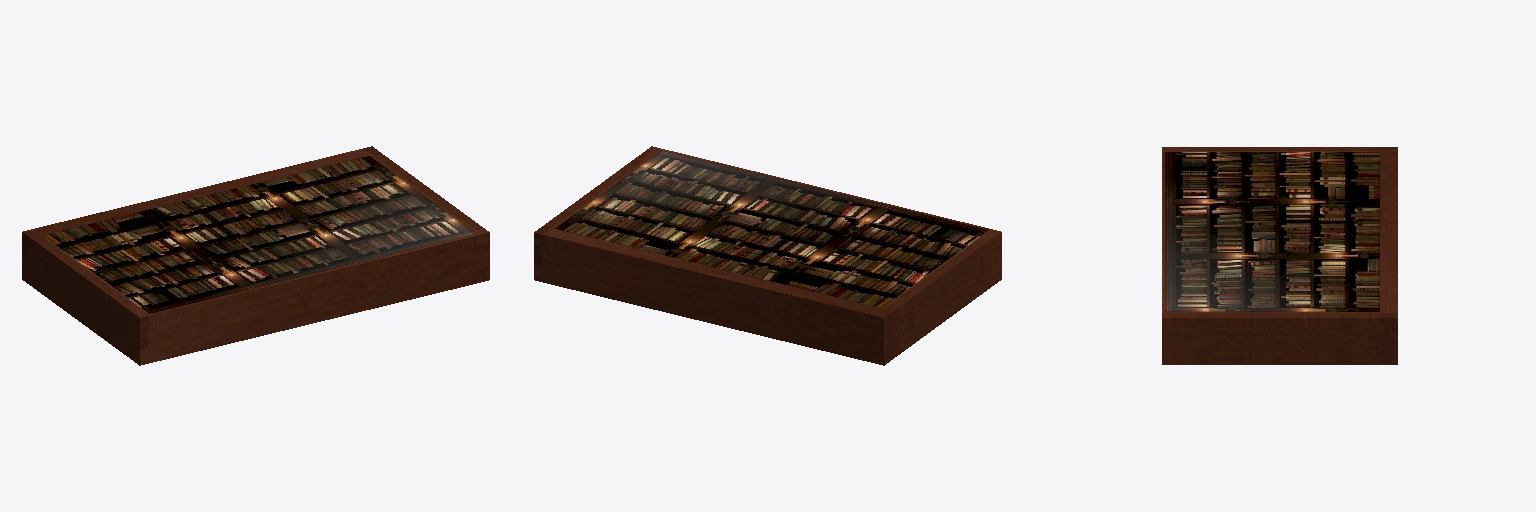
3 views of the same model, side by side, from view 1: azimuth 30°, elevation 25°; view 2: azimuth 150°, elevation 25°; view 3: azimuth 270°, elevation 25° (orthographic).
Visible parts, largest first — view 1: Box001; view 2: Box001; view 3: Box001.
Boxes of the visible parts, x1,y1,x2,y2 form: Box001: [22, 146, 489, 365]; Box001: [534, 146, 1001, 365]; Box001: [1162, 147, 1397, 364].
Size of the model in its own units: 17.63 by 2.3 by 10.28.
Materials: 1 (1 with a texture image).